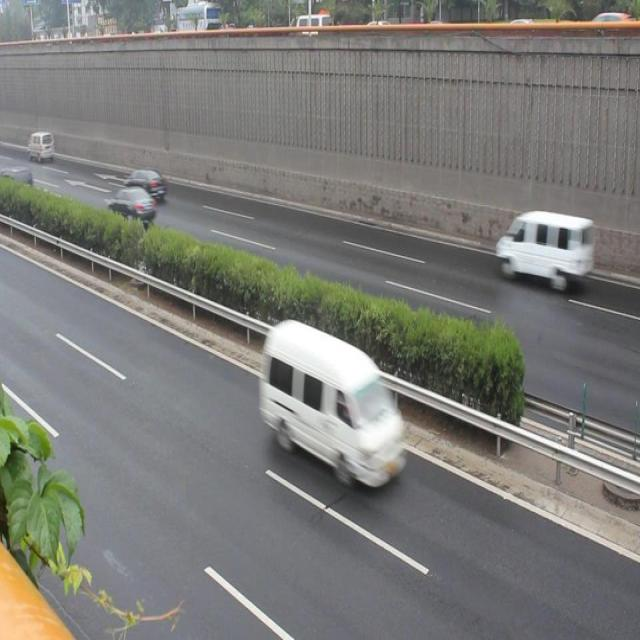car: (107, 178, 150, 227), (120, 163, 169, 204)
truck: (258, 318, 411, 492), (494, 206, 597, 292)
